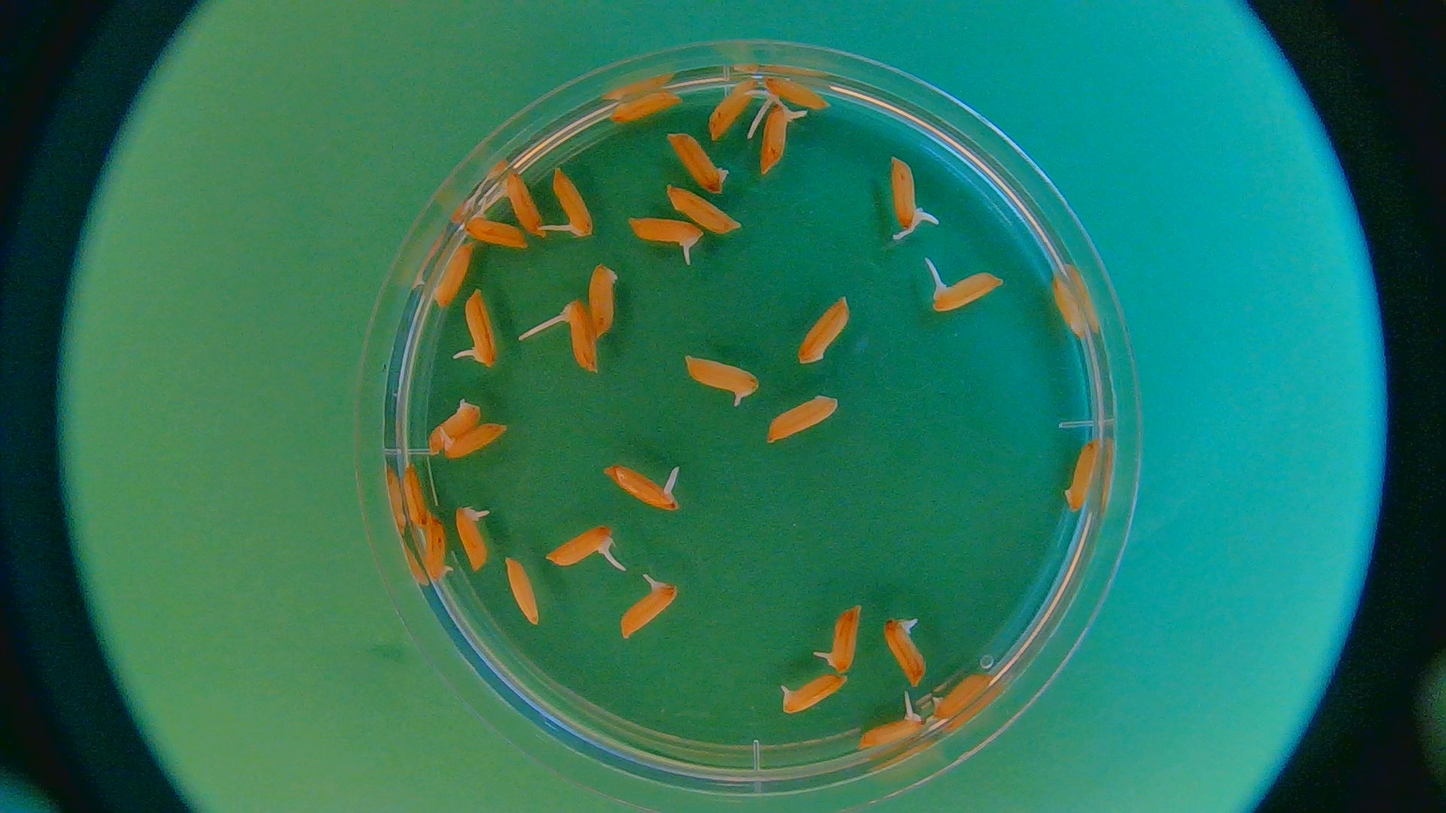no: (666, 178, 740, 240), (665, 134, 731, 193), (795, 295, 852, 361), (766, 394, 839, 445), (709, 78, 757, 142), (1062, 429, 1098, 514), (928, 671, 988, 721), (432, 246, 477, 308), (609, 89, 682, 125), (432, 398, 480, 451), (589, 265, 620, 340), (1051, 277, 1088, 336), (505, 559, 537, 626), (424, 516, 455, 581), (400, 464, 432, 526)
yes: (603, 463, 680, 513), (549, 163, 599, 238), (683, 355, 760, 397), (761, 105, 806, 176), (555, 301, 599, 370), (546, 528, 621, 568), (623, 582, 679, 635), (883, 617, 925, 686), (888, 160, 926, 236), (852, 706, 919, 749), (779, 674, 849, 714), (498, 175, 545, 234), (928, 269, 993, 311), (823, 607, 862, 675), (461, 291, 495, 367), (467, 212, 529, 253), (760, 79, 830, 113), (630, 218, 703, 250), (439, 425, 507, 458), (456, 507, 490, 573)
